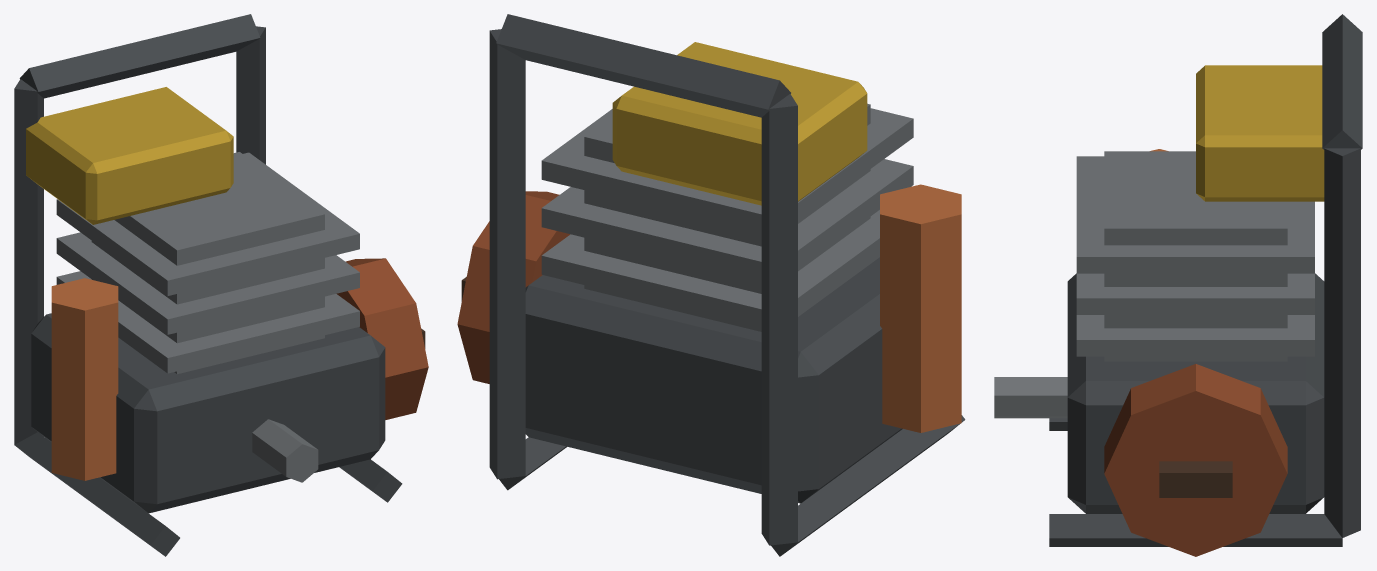
The model's file is item_engine_small.glb.
3 renders of one model, left to right at view 1: azimuth 30°, elevation 25°; view 2: azimuth 150°, elevation 25°; view 3: azimuth 270°, elevation 25°, orthographic. The views are drawn at different scales.
Visible parts, largest first — view 1: engine_small; view 2: engine_small; view 3: engine_small.
Boxes of the visible parts, x1,y1,x2,y2 form: engine_small: (14,14,428,556); engine_small: (457,14,965,556); engine_small: (994,14,1362,556).
Size of the model in its own units: 0.505 by 0.502 by 0.402.
